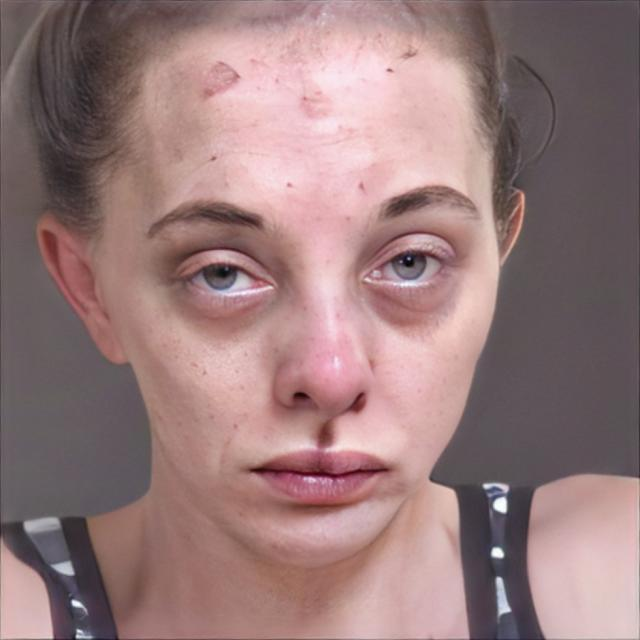sad: (118, 41, 500, 567)
